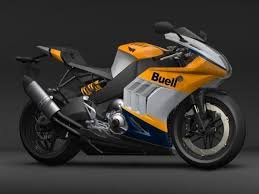motor: (6, 25, 255, 177)
